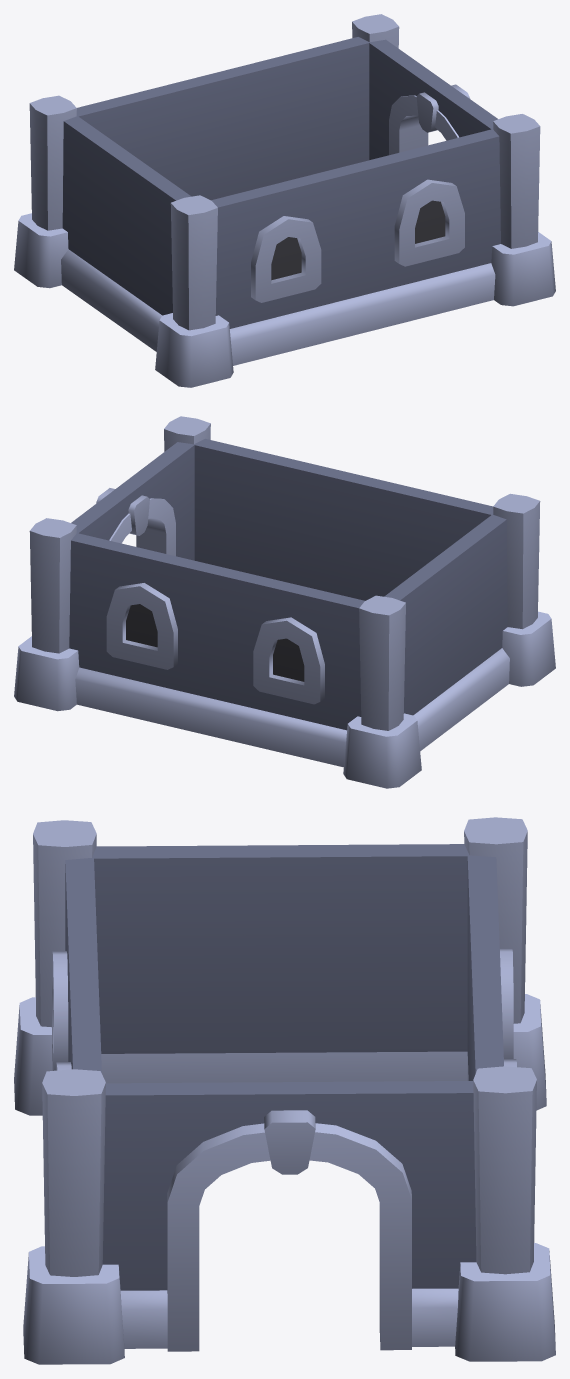
Rendered from crypt-large.002_lev2.glb.
The picture shows the model from 3 angles, top to bottom: view 1: azimuth 30°, elevation 25°; view 2: azimuth 150°, elevation 25°; view 3: azimuth 270°, elevation 25°; orthographic projection. The views are drawn at different scales.
Visible parts, largest first — view 1: crypt-large.002_lev2; view 2: crypt-large.002_lev2; view 3: crypt-large.002_lev2.
Boxes of the visible parts, left/top/right/bottom form: crypt-large.002_lev2: left=14, top=14, right=555, bottom=387; crypt-large.002_lev2: left=14, top=416, right=555, bottom=788; crypt-large.002_lev2: left=14, top=817, right=555, bottom=1364.
Bounding box in the file's own units: 19.42 × 8 × 15.09.
Materials: 1 (1 with a texture image).
